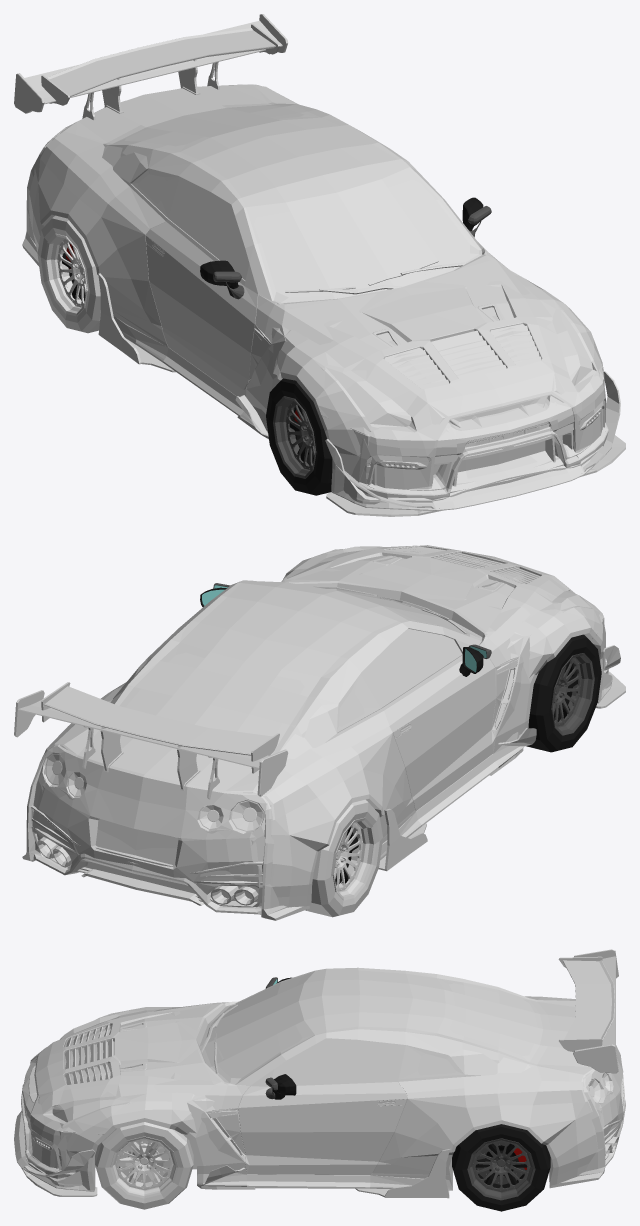
The model's file is LP_Veh_Sports_14.fbx.
The picture shows the model from 3 angles, top to bottom: view 1: azimuth 30°, elevation 25°; view 2: azimuth 150°, elevation 25°; view 3: azimuth 270°, elevation 25°; orthographic projection. The views are drawn at different scales.
Parts seen in each view (by area): view 1: LP_Veh_Sports_Tuning_001_14, LP_Veh_Sports_14, LP_Veh_Sports_Glass_001_14, LP_Veh_Sports_Tuning_002_14, LP_Veh_Sports_Bumper_002_14, LP_Veh_Sports_Spoiler_001_14, LP_Veh_Sports_Wheel_TT_002_14, LP_Veh_Sports_Wheel_TT_004_14, LP_Veh_Sports_Underlip_14, LP_Veh_Sports_Bumper_001_14, LP_Veh_Sports_Spoiler_002_14, LP_Veh_Sports_Glass_002_14 (+2 smaller); view 2: LP_Veh_Sports_Tuning_001_14, LP_Veh_Sports_14, LP_Veh_Sports_Tuning_002_14, LP_Veh_Sports_Glass_001_14, LP_Veh_Sports_Spoiler_001_14, LP_Veh_Sports_Wheel_TT_002_14, LP_Veh_Sports_Wheel_TT_004_14, LP_Veh_Sports_Spoiler_002_14, LP_Veh_Sports_Underlip_14, LP_Veh_Sports_Glass_004_14, LP_Veh_Sports_Side mirror_001_14, LP_Veh_Sports_Glass_002_14 (+2 smaller); view 3: LP_Veh_Sports_Tuning_001_14, LP_Veh_Sports_14, LP_Veh_Sports_Tuning_002_14, LP_Veh_Sports_Glass_001_14, LP_Veh_Sports_Wheel_TT_001_14, LP_Veh_Sports_Wheel_TT_003_14, LP_Veh_Sports_Bumper_002_14, LP_Veh_Sports_Spoiler_001_14, LP_Veh_Sports_Underlip_14, LP_Veh_Sports_Spoiler_002_14, LP_Veh_Sports_Bumper_001_14, LP_Veh_Sports_Glass_002_14 (+5 smaller).
Boxes of the visible parts, x1=… form: LP_Veh_Sports_Tuning_001_14: x1=29, y1=84, x2=594, y2=439; LP_Veh_Sports_14: x1=78, y1=85, x2=484, y2=396; LP_Veh_Sports_Glass_001_14: x1=124, y1=105, x2=469, y2=297; LP_Veh_Sports_Tuning_002_14: x1=22, y1=84, x2=606, y2=504; LP_Veh_Sports_Bumper_002_14: x1=314, y1=343, x2=611, y2=510; LP_Veh_Sports_Spoiler_001_14: x1=41, y1=24, x2=279, y2=113; LP_Veh_Sports_Wheel_TT_002_14: x1=266, y1=378, x2=332, y2=495; LP_Veh_Sports_Wheel_TT_004_14: x1=37, y1=215, x2=106, y2=333; LP_Veh_Sports_Underlip_14: x1=98, y1=273, x2=625, y2=516; LP_Veh_Sports_Bumper_001_14: x1=315, y1=338, x2=604, y2=493; LP_Veh_Sports_Spoiler_002_14: x1=14, y1=14, x2=287, y2=120; LP_Veh_Sports_Glass_002_14: x1=325, y1=309, x2=592, y2=426; LP_Veh_Sports_Tuning_001_14: x1=32, y1=545, x2=594, y2=907; LP_Veh_Sports_14: x1=77, y1=580, x2=495, y2=811; LP_Veh_Sports_Tuning_002_14: x1=22, y1=551, x2=612, y2=920; LP_Veh_Sports_Glass_001_14: x1=126, y1=592, x2=469, y2=736; LP_Veh_Sports_Spoiler_001_14: x1=41, y1=682, x2=279, y2=790; LP_Veh_Sports_Wheel_TT_002_14: x1=526, y1=634, x2=601, y2=752; LP_Veh_Sports_Wheel_TT_004_14: x1=306, y1=799, x2=382, y2=917; LP_Veh_Sports_Spoiler_002_14: x1=14, y1=690, x2=288, y2=799; LP_Veh_Sports_Underlip_14: x1=378, y1=645, x2=625, y2=871; LP_Veh_Sports_Glass_004_14: x1=45, y1=753, x2=263, y2=831; LP_Veh_Sports_Side mirror_001_14: x1=200, y1=587, x2=483, y2=676; LP_Veh_Sports_Glass_002_14: x1=326, y1=546, x2=591, y2=610; LP_Veh_Sports_Tuning_001_14: x1=47, y1=971, x2=624, y2=1189; LP_Veh_Sports_14: x1=196, y1=967, x2=609, y2=1175; LP_Veh_Sports_Tuning_002_14: x1=24, y1=971, x2=625, y2=1190; LP_Veh_Sports_Glass_001_14: x1=210, y1=977, x2=538, y2=1082; LP_Veh_Sports_Wheel_TT_001_14: x1=95, y1=1122, x2=193, y2=1209; LP_Veh_Sports_Wheel_TT_003_14: x1=452, y1=1124, x2=550, y2=1211; LP_Veh_Sports_Bumper_002_14: x1=14, y1=1042, x2=115, y2=1191; LP_Veh_Sports_Spoiler_001_14: x1=558, y1=956, x2=614, y2=1051; LP_Veh_Sports_Underlip_14: x1=22, y1=1149, x2=450, y2=1198; LP_Veh_Sports_Spoiler_002_14: x1=573, y1=949, x2=618, y2=1073; LP_Veh_Sports_Bumper_001_14: x1=28, y1=1044, x2=114, y2=1190; LP_Veh_Sports_Glass_002_14: x1=52, y1=1010, x2=130, y2=1122.
Bounding box in the file's own units: 2.29 × 1.54 × 5.24.
